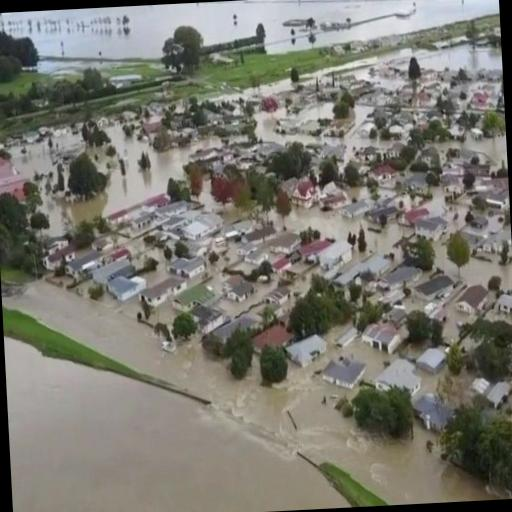flood: (2, 281, 501, 512), (0, 0, 499, 69), (42, 127, 210, 234), (287, 207, 413, 266), (415, 44, 503, 71), (9, 139, 57, 184), (437, 134, 507, 163), (464, 257, 512, 290), (53, 133, 79, 148), (348, 187, 369, 198)
house: (141, 276, 183, 326), (280, 330, 326, 372), (319, 354, 368, 390), (106, 270, 149, 310), (379, 358, 424, 396), (170, 250, 210, 284), (416, 394, 450, 434), (458, 279, 492, 318), (364, 321, 400, 356), (412, 215, 448, 249), (66, 252, 106, 280), (318, 184, 350, 218), (416, 275, 454, 303), (0, 155, 25, 197), (318, 240, 354, 269), (366, 200, 398, 232), (220, 274, 252, 304), (194, 305, 224, 333), (262, 286, 292, 308), (272, 234, 301, 254), (495, 289, 512, 318), (489, 188, 510, 210), (184, 222, 207, 242), (372, 166, 396, 182), (292, 184, 312, 203), (48, 237, 70, 253), (236, 243, 257, 257), (132, 216, 152, 229), (386, 142, 400, 158)
